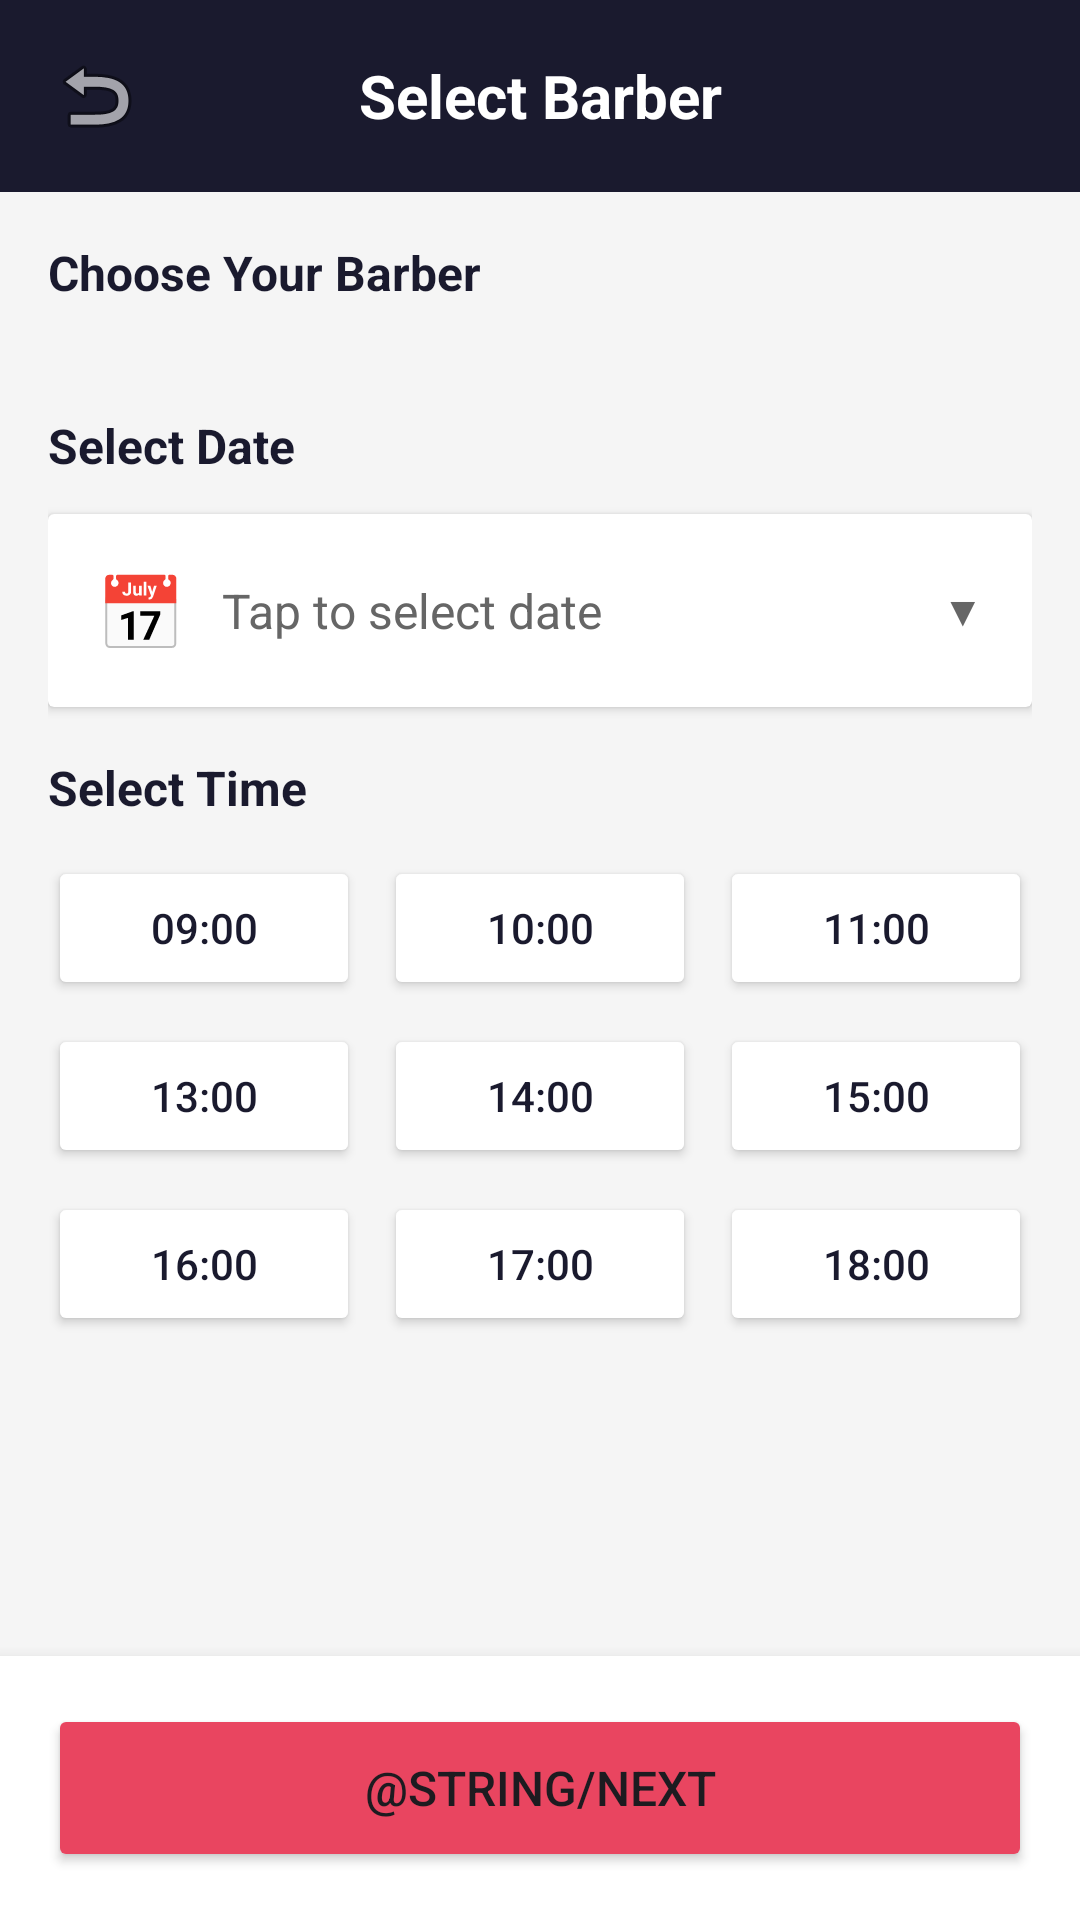

Screen size 1080x1920. Icon name, then its center in pixels as point (x, y):
Back: point (97, 96)
